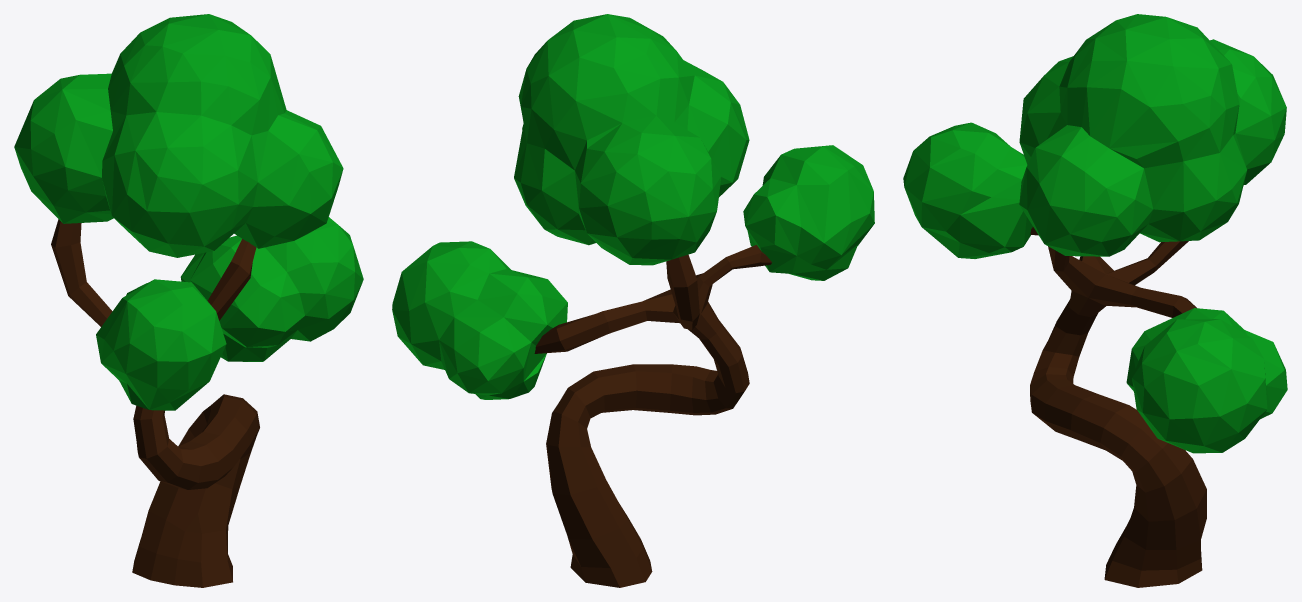
Rendered from arbre_1.FBX.
3 renders of one model, left to right at view 1: azimuth 30°, elevation 25°; view 2: azimuth 150°, elevation 25°; view 3: azimuth 270°, elevation 25°, orthographic. The views are drawn at different scales.
Parts seen in each view (by area): view 1: LowPoly_Tree_06_; view 2: LowPoly_Tree_06_; view 3: LowPoly_Tree_06_.
Boxes of the visible parts, bbox=[...] form: LowPoly_Tree_06_: bbox=[14, 14, 363, 587]; LowPoly_Tree_06_: bbox=[392, 14, 874, 587]; LowPoly_Tree_06_: bbox=[903, 14, 1287, 587].
Size of the model in its own units: 28.4 by 41.41 by 26.29.
